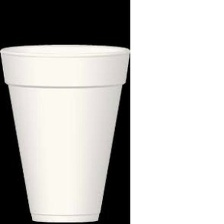paper_cup: (0, 36, 130, 223)
